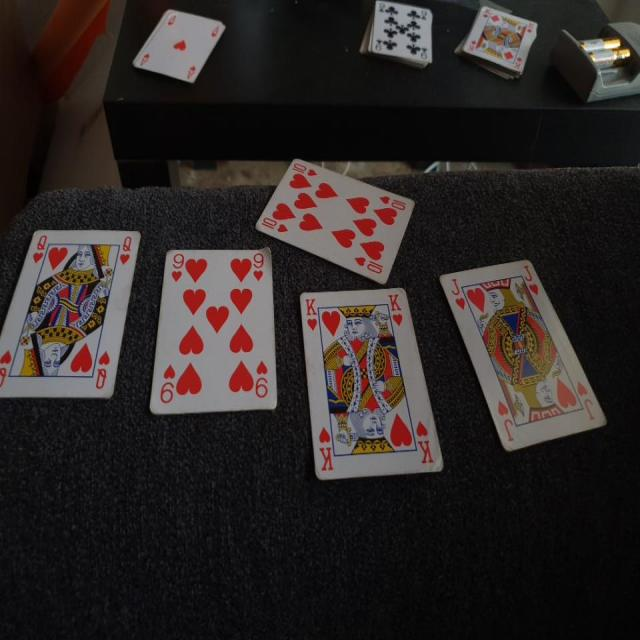10 Hearts: (251, 153, 424, 284)
9 Hearts: (156, 244, 282, 426)
J Hearts: (433, 241, 612, 454)
K Hearts: (296, 290, 450, 482)
Q Hearts: (1, 214, 142, 409)
